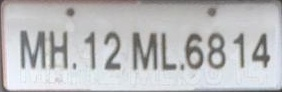character: (19, 28, 47, 68), (131, 30, 158, 70), (48, 29, 68, 70), (102, 31, 121, 70), (184, 32, 204, 69), (206, 32, 226, 69), (160, 29, 177, 71), (251, 31, 270, 67), (83, 30, 96, 69), (232, 31, 245, 68)
